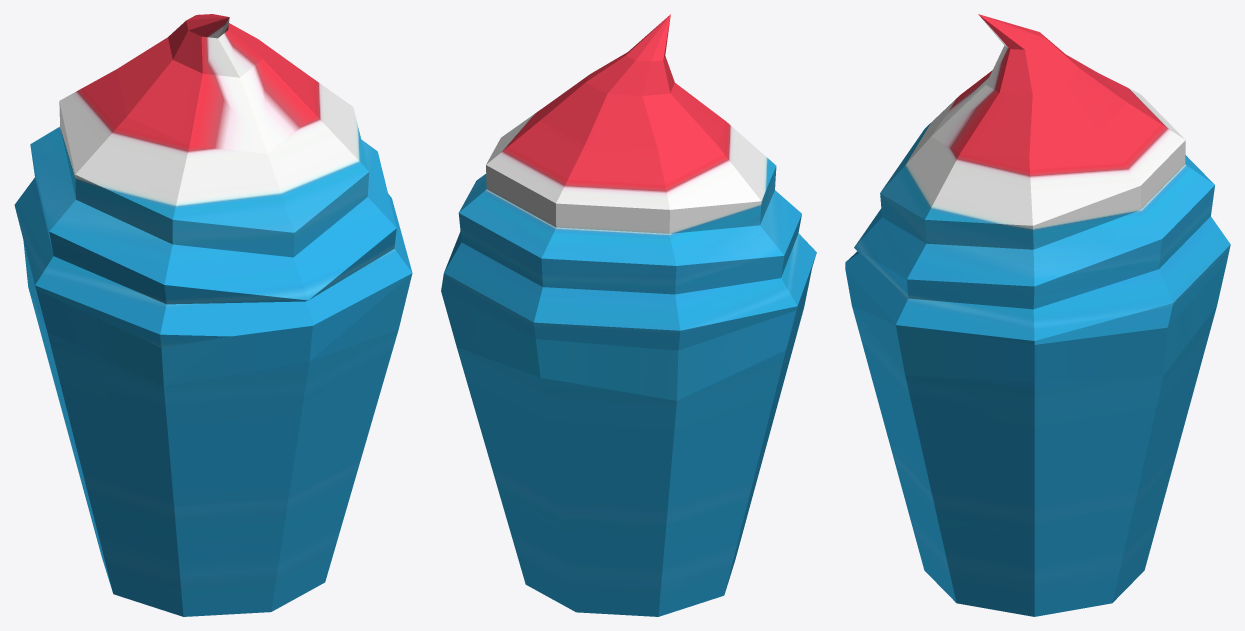
The model's file is quaternius-junk-food-cupcake.glb.
The picture shows the model from 3 angles, left to right: view 1: azimuth 30°, elevation 25°; view 2: azimuth 150°, elevation 25°; view 3: azimuth 270°, elevation 25°; orthographic projection. The views are drawn at different scales.
Parts seen in each view (by area): view 1: Cupcake; view 2: Cupcake; view 3: Cupcake.
Part boxes in pixels (<box>): Cupcake: <box>14,14,412,616</box>; Cupcake: <box>441,14,816,616</box>; Cupcake: <box>845,14,1230,616</box>.
Bounding box in the file's own units: 0.6355 × 0.9829 × 0.6242.
1 material, 1 textured.
